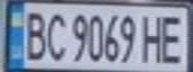0: (87, 10, 106, 63)
6: (103, 10, 121, 63)
9: (66, 9, 87, 63), (118, 10, 139, 63)
B: (21, 7, 48, 62)
C: (42, 8, 69, 62)
E: (160, 10, 190, 64)
H: (139, 10, 169, 63)
